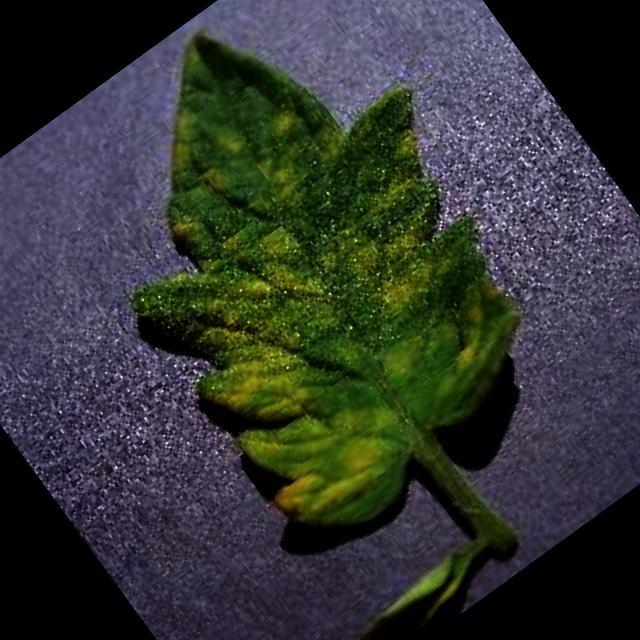Tomato mold leaf: (17, 0, 607, 567)
